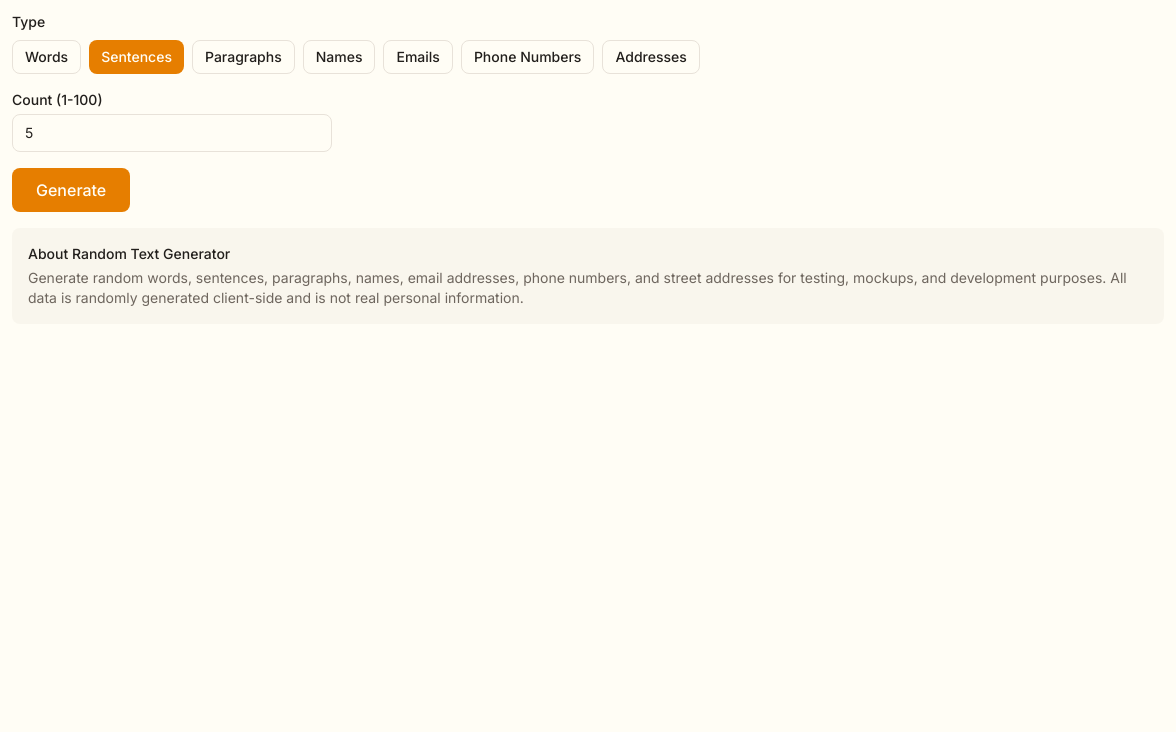
it: RandomTextGenerator › generates sentences by default
This screenshot has width=1176, height=732.
Step 1. Click the button "Generate" → (71,190), box [12,168,130,212]
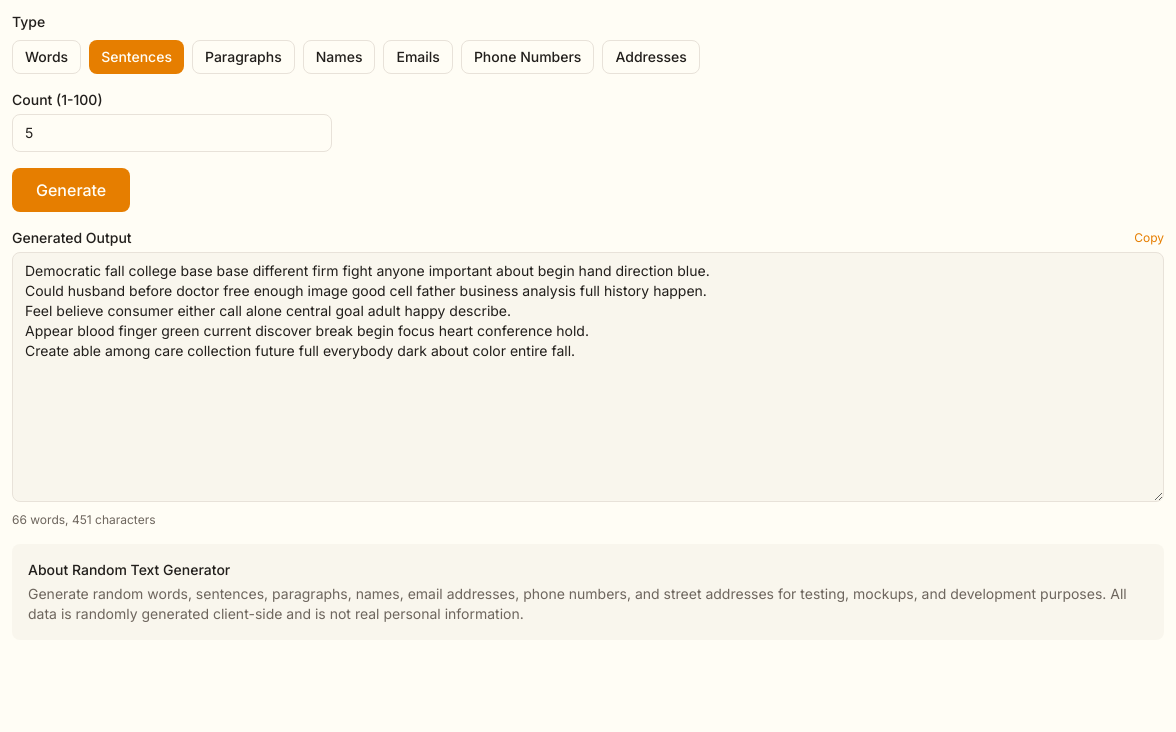
Check: the text box named "Generated output" is shown, box [12,252,1164,502]
